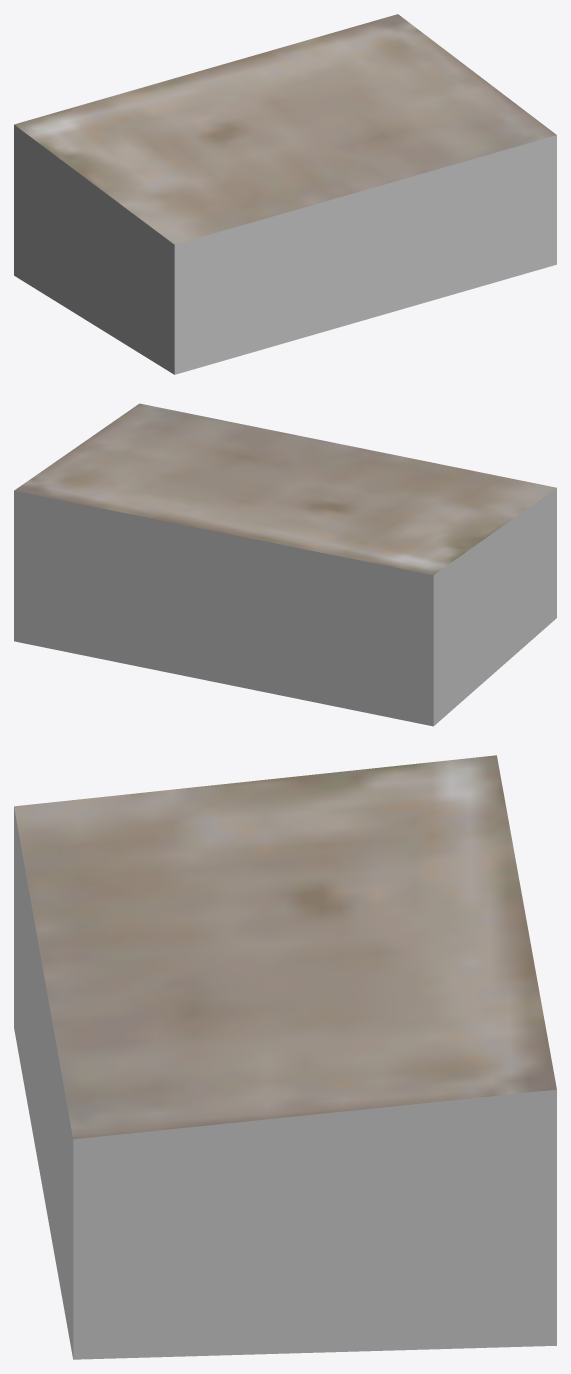
Rendered from DEBW_0010007Txim.gltf.
3 renders of one model, top to bottom at view 1: azimuth 30°, elevation 25°; view 2: azimuth 150°, elevation 25°; view 3: azimuth 270°, elevation 25°, orthographic. The views are drawn at different scales.
Visible parts, largest first — view 1: Z_UP; view 2: Z_UP; view 3: Z_UP.
Part boxes in pixels (<box>): Z_UP: <box>14,14,556,374</box>; Z_UP: <box>14,403,556,726</box>; Z_UP: <box>14,755,556,1359</box>.
Bounding box in the file's own units: 8.75 × 3.02 × 5.78.
2 materials, 1 textured.
